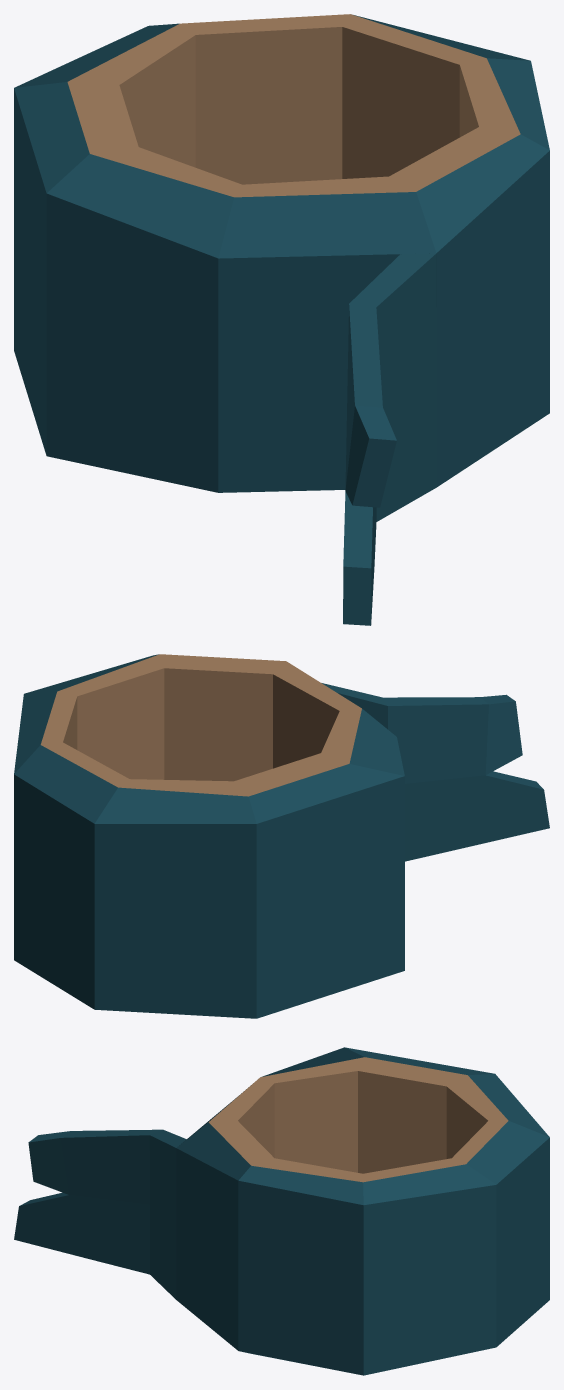
The model's file is SM_Adhesive_Tape.fbx.
The picture shows the model from 3 angles, top to bottom: view 1: azimuth 30°, elevation 25°; view 2: azimuth 150°, elevation 25°; view 3: azimuth 270°, elevation 25°; orthographic projection. The views are drawn at different scales.
Parts seen in each view (by area): view 1: SM_Adhesive_Tape; view 2: SM_Adhesive_Tape; view 3: SM_Adhesive_Tape.
Part boxes in pixels (<box>): SM_Adhesive_Tape: <box>14,14,549,625</box>; SM_Adhesive_Tape: <box>14,654,549,1018</box>; SM_Adhesive_Tape: <box>14,1047,549,1375</box>.
Size of the model in its own units: 17.6 by 9.77 by 25.24.
